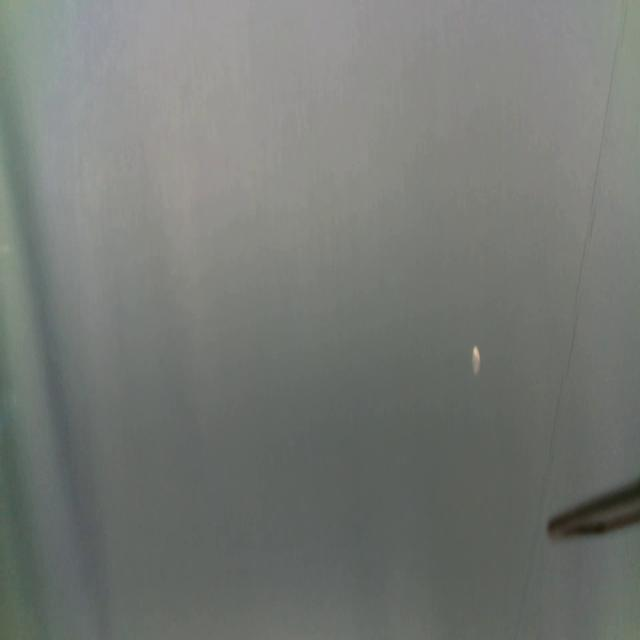crease: (540, 0, 629, 501)
hole: (470, 346, 482, 380)
